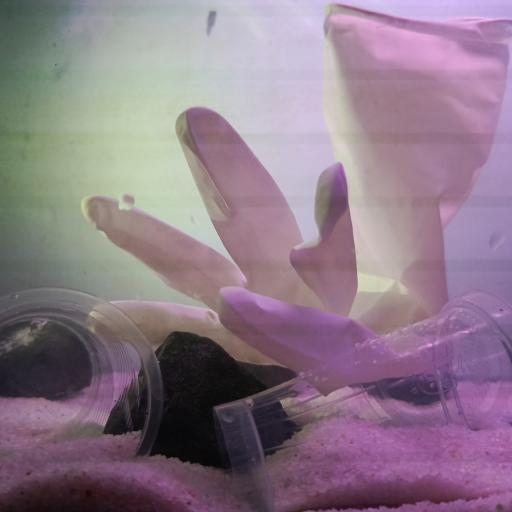glove: (83, 0, 512, 380)
plastic_cup: (215, 296, 512, 499), (0, 289, 162, 457)
